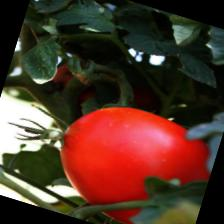tomato: (41, 88, 222, 224)
